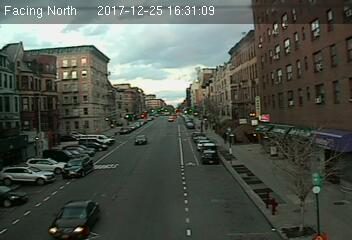car: (48, 199, 99, 238), (61, 156, 95, 178), (200, 149, 218, 166), (134, 135, 146, 144)
